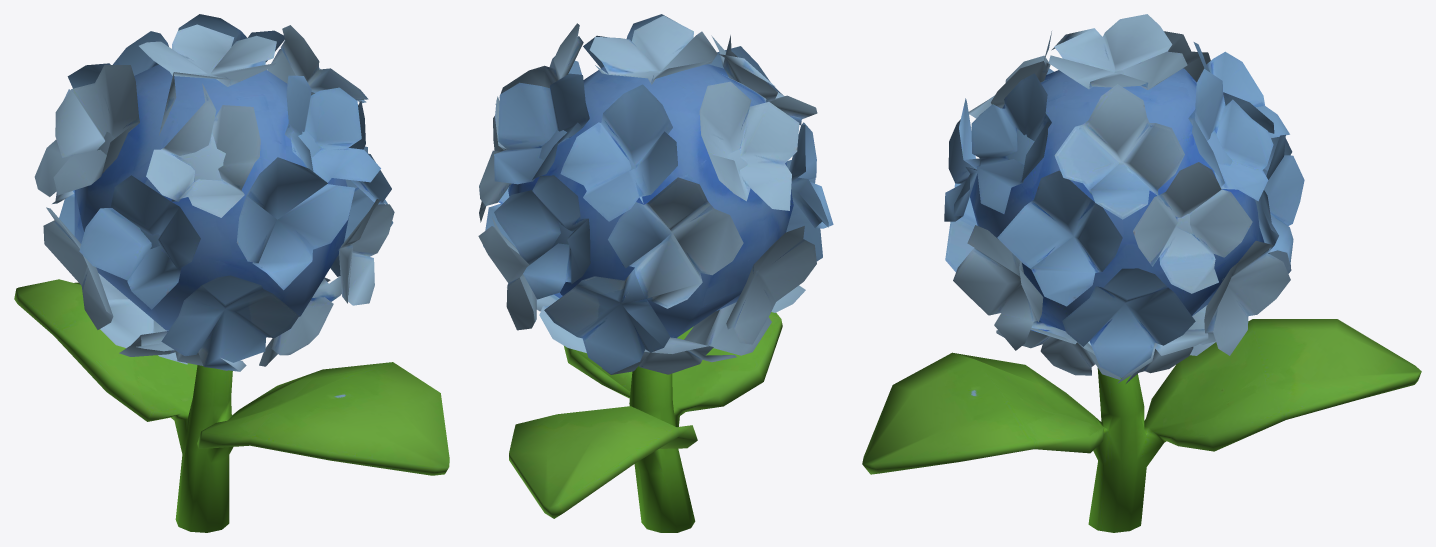
File: 546d1e81-46e4-4af0-bdd1-2dd70562e673_model.glb
The picture shows the model from 3 angles, left to right: view 1: azimuth 30°, elevation 25°; view 2: azimuth 150°, elevation 25°; view 3: azimuth 270°, elevation 25°; orthographic projection.
Parts seen in each view (by area): view 1: tripo_node_546d1e81-46e4-4af0-bdd1-2dd70562e673; view 2: tripo_node_546d1e81-46e4-4af0-bdd1-2dd70562e673; view 3: tripo_node_546d1e81-46e4-4af0-bdd1-2dd70562e673.
Part boxes in pixels (left/top/right/bottom): tripo_node_546d1e81-46e4-4af0-bdd1-2dd70562e673: left=14, top=14, right=449, bottom=532; tripo_node_546d1e81-46e4-4af0-bdd1-2dd70562e673: left=478, top=14, right=833, bottom=532; tripo_node_546d1e81-46e4-4af0-bdd1-2dd70562e673: left=862, top=14, right=1421, bottom=532.
Size of the model in its own units: 0.2044 by 0.3 by 0.3146.
Materials: 1 (1 with a texture image).
